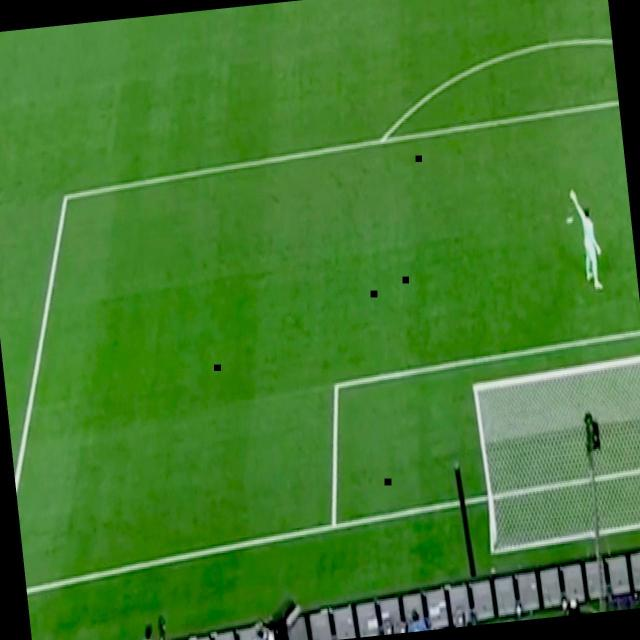player-white: (567, 184, 607, 297)
